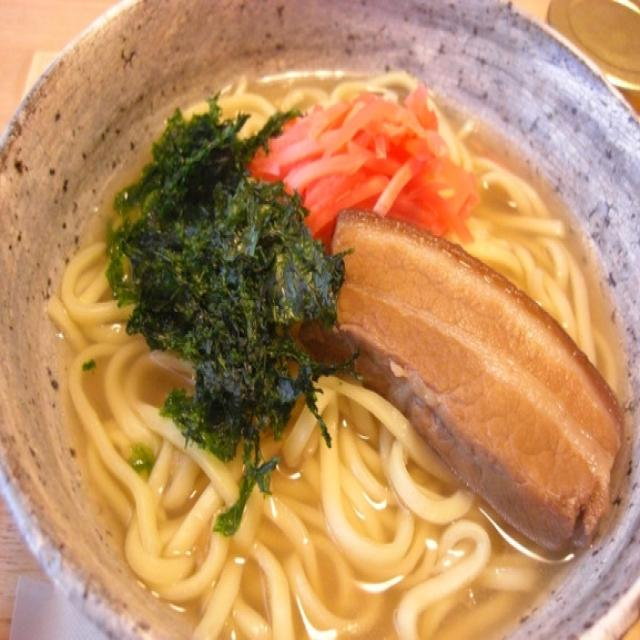猪肉菜式: (67, 178, 640, 593)
